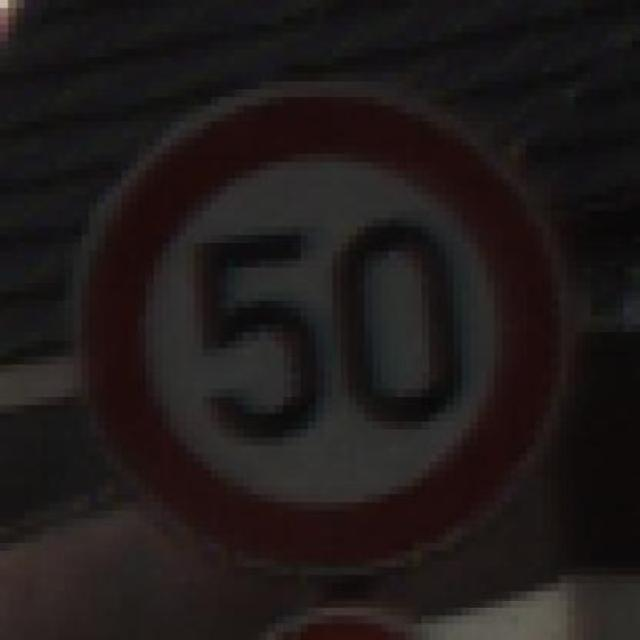50 mph speed limit: (64, 72, 558, 600)
